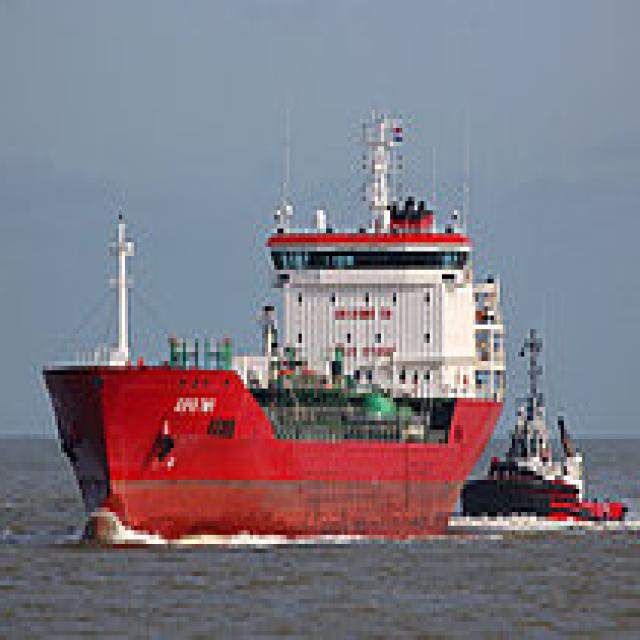Tanker: (46, 105, 512, 535)
